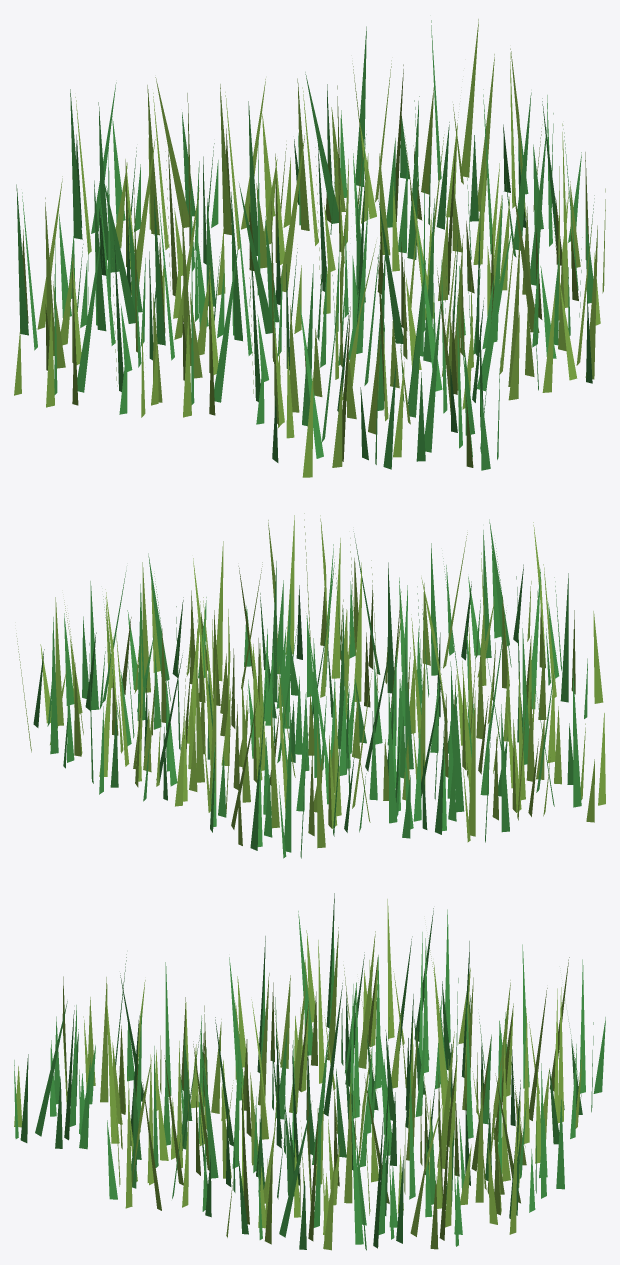
The model's file is grass-patch.glb.
The picture shows the model from 3 angles, top to bottom: view 1: azimuth 30°, elevation 25°; view 2: azimuth 150°, elevation 25°; view 3: azimuth 270°, elevation 25°; orthographic projection. The views are drawn at different scales.
Parts seen in each view (by area): view 1: Node; view 2: Node; view 3: Node.
Part boxes in pixels (bbox=[...]): Node: bbox=[14, 19, 605, 477]; Node: bbox=[16, 513, 605, 858]; Node: bbox=[14, 893, 605, 1250].
Bounding box in the file's own units: 2.69 × 0.8967 × 2.74.
